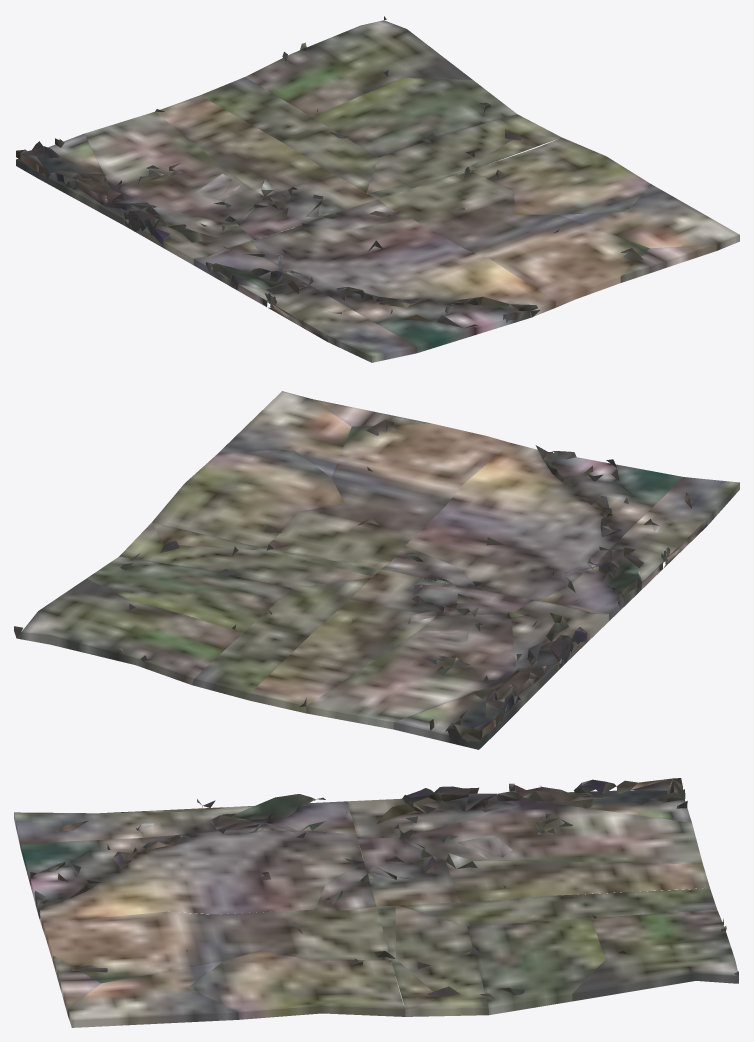
3 renders of one model, top to bottom at view 1: azimuth 30°, elevation 25°; view 2: azimuth 150°, elevation 25°; view 3: azimuth 270°, elevation 25°, orthographic. The views are drawn at different scales.
Parts seen in each view (by area): view 1: Mesh_0; view 2: Mesh_0; view 3: Mesh_0.
Boxes of the visible parts, x1,y1,x2,y2 form: Mesh_0: (16, 16, 739, 362); Mesh_0: (14, 391, 739, 749); Mesh_0: (14, 778, 738, 1027).
Size of the model in its own units: 1069 by 79.23 by 1319.
Materials: 1 (1 with a texture image).
